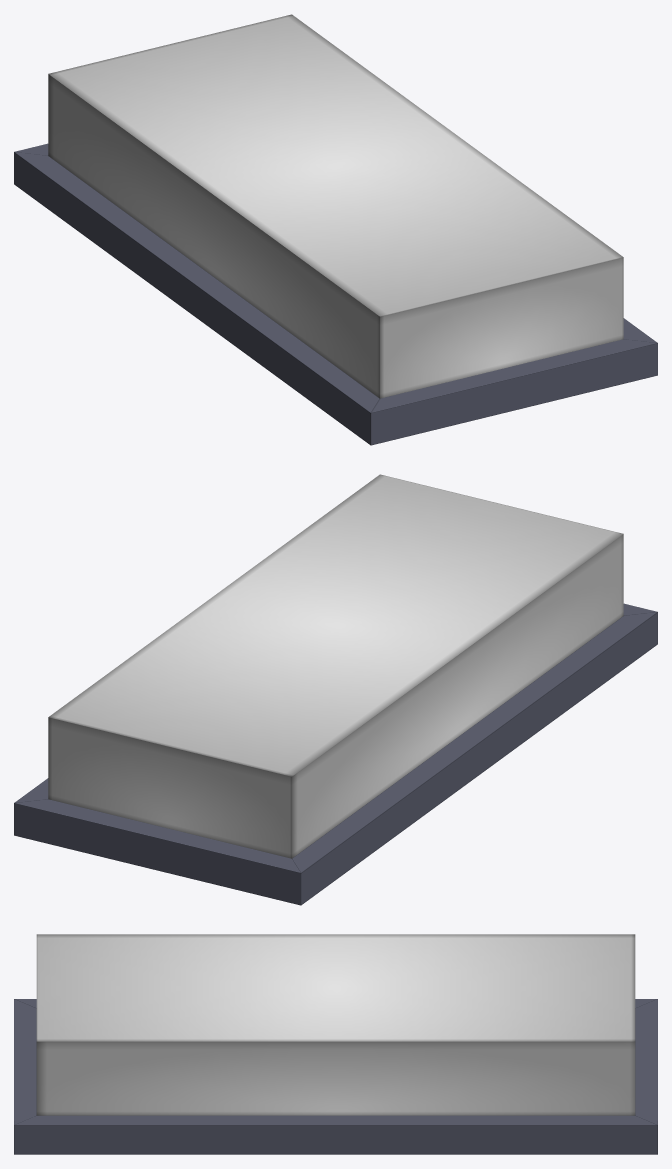
The model's file is Button_Rectangular_White.FBX.
3 renders of one model, top to bottom at view 1: azimuth 30°, elevation 25°; view 2: azimuth 150°, elevation 25°; view 3: azimuth 270°, elevation 25°, orthographic. The views are drawn at different scales.
Parts seen in each view (by area): view 1: Push_Me, Button_Rectangular_White; view 2: Push_Me, Button_Rectangular_White; view 3: Push_Me, Button_Rectangular_White.
Boxes of the visible parts, x1,y1,x2,y2 form: Push_Me: (48, 14, 623, 398); Button_Rectangular_White: (14, 143, 657, 445); Push_Me: (48, 474, 623, 858); Button_Rectangular_White: (14, 603, 657, 905); Push_Me: (36, 934, 635, 1115); Button_Rectangular_White: (14, 999, 657, 1154).
Bounding box in the file's own units: 0.0922 × 0.0351 × 0.1985.
1 material, 1 textured.
